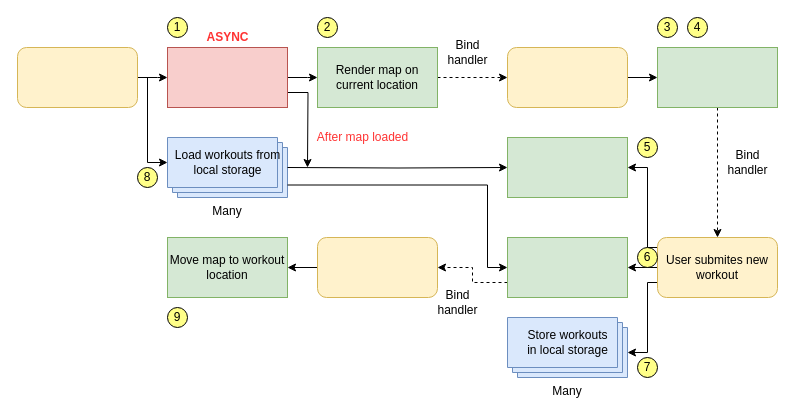
This 795x416 diagram has some shape labels left out. Here are the shapes that lost their labels. From the top down, the centre of each, then its label:
point (77, 77): Page loads
point (227, 77): Get current location coordinates
point (567, 77): User clicks on map
point (717, 77): Render workout form
point (567, 167): Render workout on map
point (377, 267): User clicks on workout in list
point (567, 267): Render workout in list
